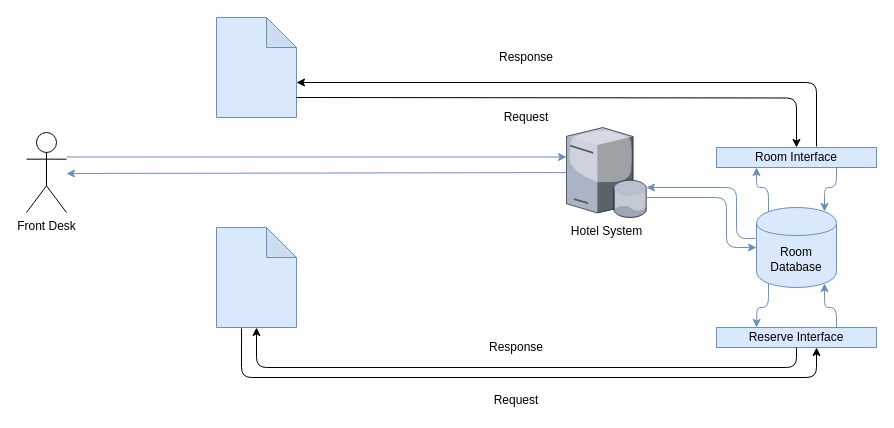
This 894x428 diagram has some shape labels left out. Here are the shapes that lost their labels. From the top down, the centre of each, then its label:
the point at 256,67: Availabe Room Request
the point at 256,277: Reserve Room Request
